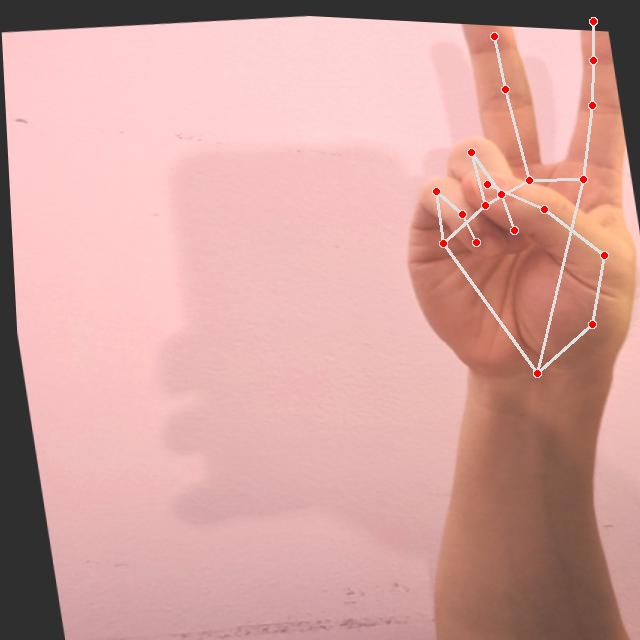V: (361, 14, 639, 386)
